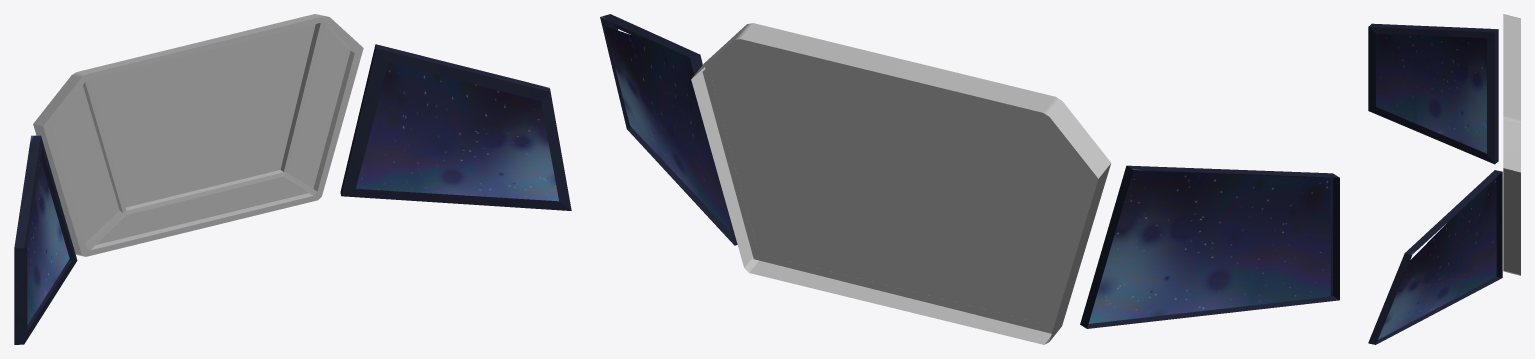
Rendered from cockpitwindow.fbx.
3 renders of one model, left to right at view 1: azimuth 30°, elevation 25°; view 2: azimuth 150°, elevation 25°; view 3: azimuth 270°, elevation 25°, orthographic. The views are drawn at different scales.
Visible parts, largest first — view 1: pCube61, pPlane16 (×2), cockpit_center:cockpit:pCube61, pPlane18, pPlane17; view 2: pCube61, pPlane16 (×2), cockpit_center:cockpit:pCube61, pPlane17, pPlane18; view 3: pPlane16 (×2), cockpit_center:cockpit:pCube61, pPlane17, pPlane18.
Boxes of the visible parts, bbox=[...] form: pCube61: bbox=[52, 24, 350, 255]; pPlane16 (×2): bbox=[27, 62, 558, 324]; cockpit_center:cockpit:pCube61: bbox=[33, 14, 363, 256]; pPlane18: bbox=[340, 44, 571, 210]; pPlane17: bbox=[14, 135, 77, 344]; pCube61: bbox=[702, 39, 1098, 333]; pPlane16 (×2): bbox=[604, 26, 1330, 323]; cockpit_center:cockpit:pCube61: bbox=[691, 23, 1111, 344]; pPlane17: bbox=[1080, 165, 1339, 328]; pPlane18: bbox=[600, 14, 737, 245]; pPlane16 (×2): bbox=[1376, 33, 1496, 339]; cockpit_center:cockpit:pCube61: bbox=[1503, 14, 1520, 275]; pPlane17: bbox=[1368, 23, 1498, 164]; pPlane18: bbox=[1368, 170, 1502, 344].
Bounding box in the file's own units: 136 × 43.74 × 37.12.
